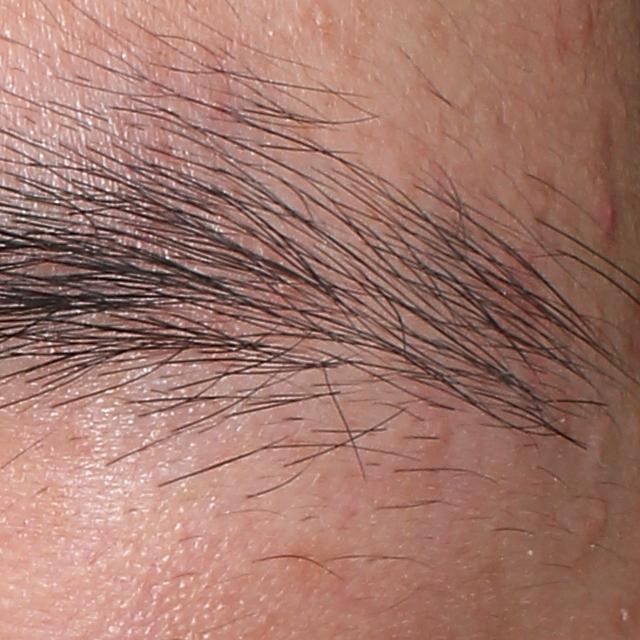comedo: (313, 8, 332, 35)
papule: (592, 195, 621, 242)
